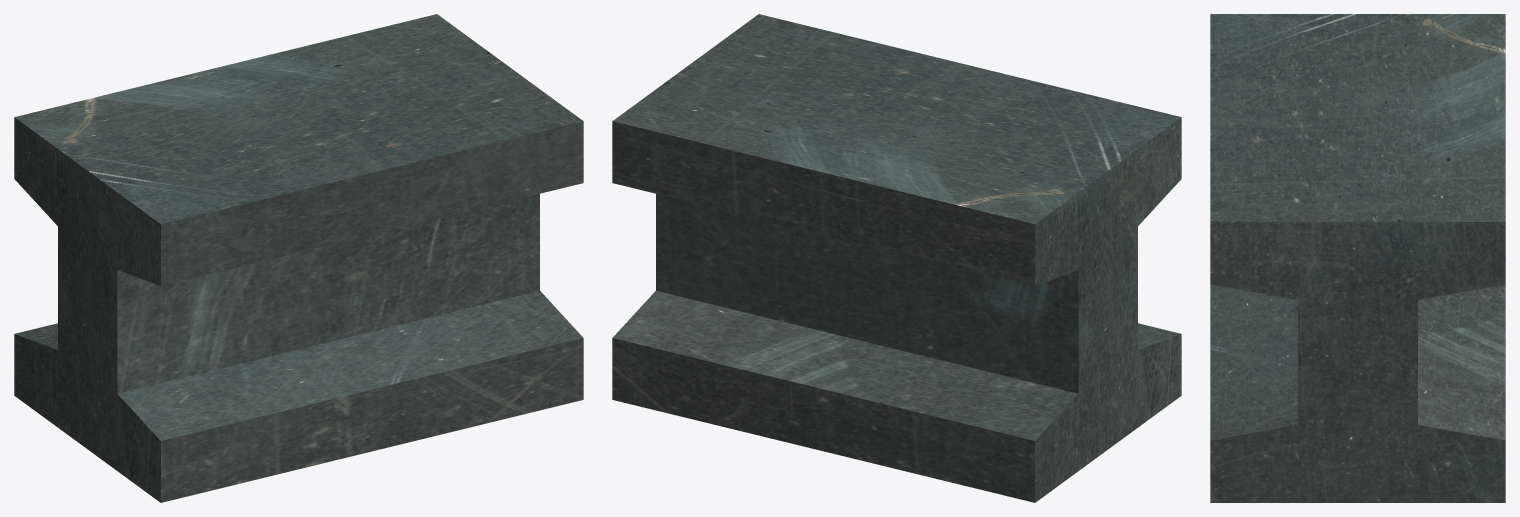
File: pickup_metal.fbx
The picture shows the model from 3 angles, left to right: view 1: azimuth 30°, elevation 25°; view 2: azimuth 150°, elevation 25°; view 3: azimuth 270°, elevation 25°; orthographic projection.
Visible parts, largest first — view 1: Cube; view 2: Cube; view 3: Cube.
Boxes of the visible parts, x1,y1,x2,y2 form: Cube: [14, 14, 583, 502]; Cube: [612, 14, 1181, 502]; Cube: [1210, 14, 1505, 502].
Bounding box in the file's own units: 100 × 63 × 60.
